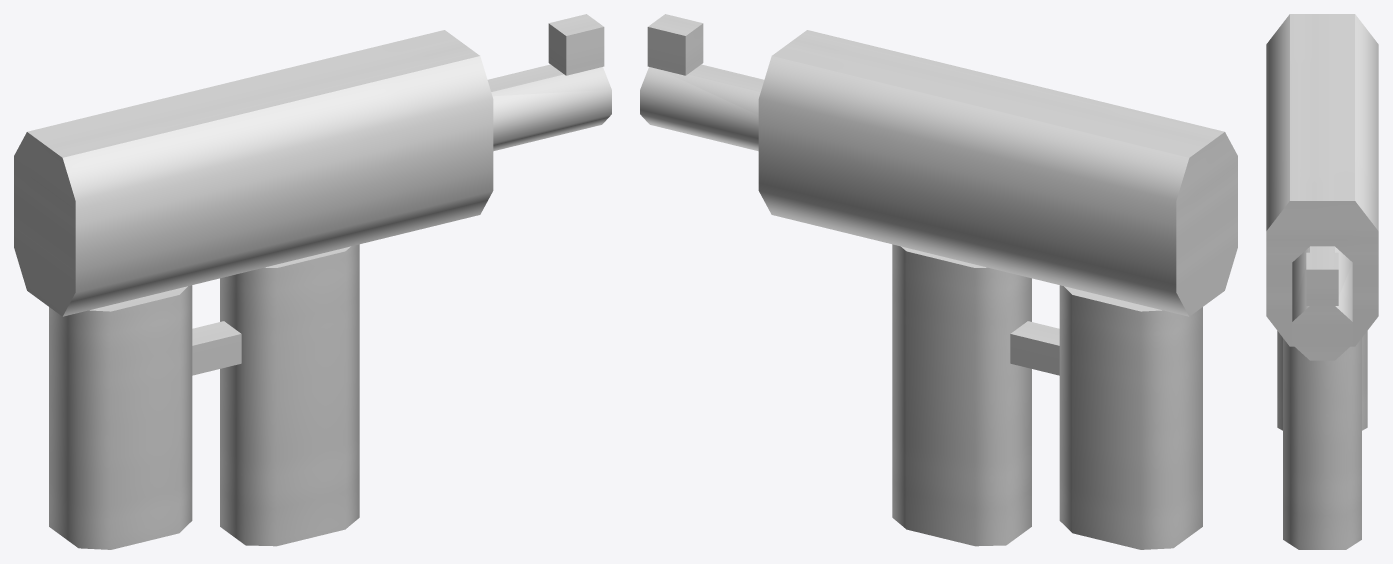
The model's file is machine_pistol.obj.
The picture shows the model from 3 angles, left to right: view 1: azimuth 30°, elevation 25°; view 2: azimuth 150°, elevation 25°; view 3: azimuth 270°, elevation 25°; orthographic projection. The views are drawn at different scales.
Visible parts, largest first — view 1: receiver, grip_or_magazine, stock_or_grip, barrel_muzzle, front_sight, butt_or_trigger; view 2: receiver, grip_or_magazine, stock_or_grip, barrel_muzzle, front_sight, butt_or_trigger; view 3: receiver, grip_or_magazine, barrel_muzzle, front_sight, stock_or_grip.
Part boxes in pixels (x1,y1,x2,y2): receiver: (14,30,493,316); grip_or_magazine: (220,244,359,546); stock_or_grip: (49,285,192,549); barrel_muzzle: (487,64,611,151); front_sight: (548,14,604,75); butt_or_trigger: (192,321,241,375); receiver: (758,30,1237,316); grip_or_magazine: (892,244,1031,546); stock_or_grip: (1059,285,1202,549); barrel_muzzle: (640,64,764,151); front_sight: (647,14,703,75); butt_or_trigger: (1010,321,1059,375); receiver: (1266,14,1378,346); grip_or_magazine: (1283,338,1361,549); barrel_muzzle: (1292,246,1352,360); front_sight: (1306,252,1338,305); stock_or_grip: (1277,331,1367,430).
Size of the model in its own units: 0.29 by 0.22 by 0.056.
